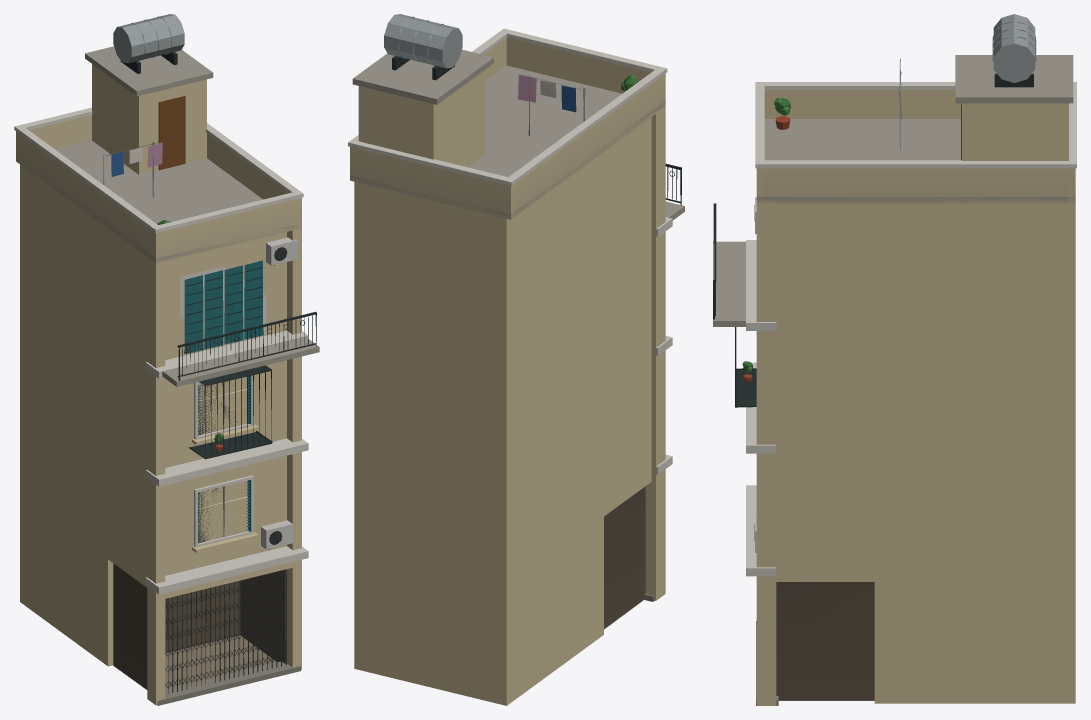
Rendered from nha_G.glb.
3 renders of one model, left to right at view 1: azimuth 30°, elevation 25°; view 2: azimuth 150°, elevation 25°; view 3: azimuth 270°, elevation 25°, orthographic. The views are drawn at different scales.
Parts seen in each view (by area): view 1: nha_G; view 2: nha_G; view 3: nha_G.
Part boxes in pixels (x1,y1,x2,y2): nha_G: [14, 14, 319, 705]; nha_G: [348, 14, 684, 705]; nha_G: [713, 14, 1076, 705].
Size of the model in its own units: 4.5 by 16.58 by 8.33.
